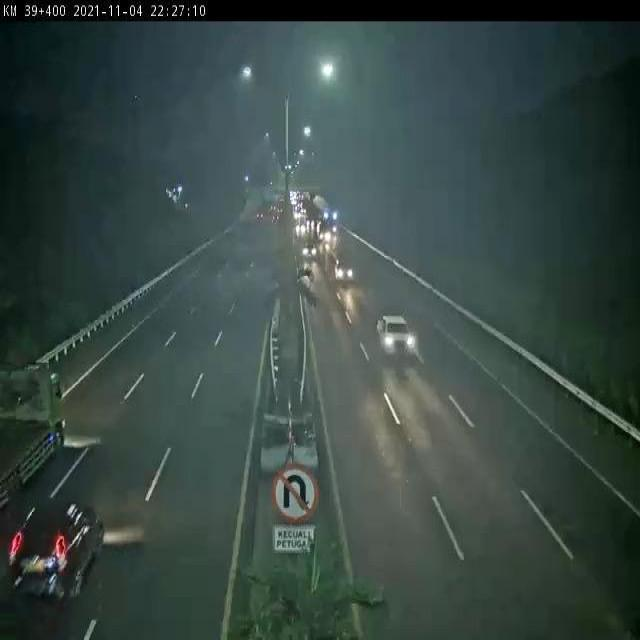car: (10, 499, 103, 597), (376, 312, 412, 356), (332, 259, 353, 283)
truck: (0, 366, 66, 510)
